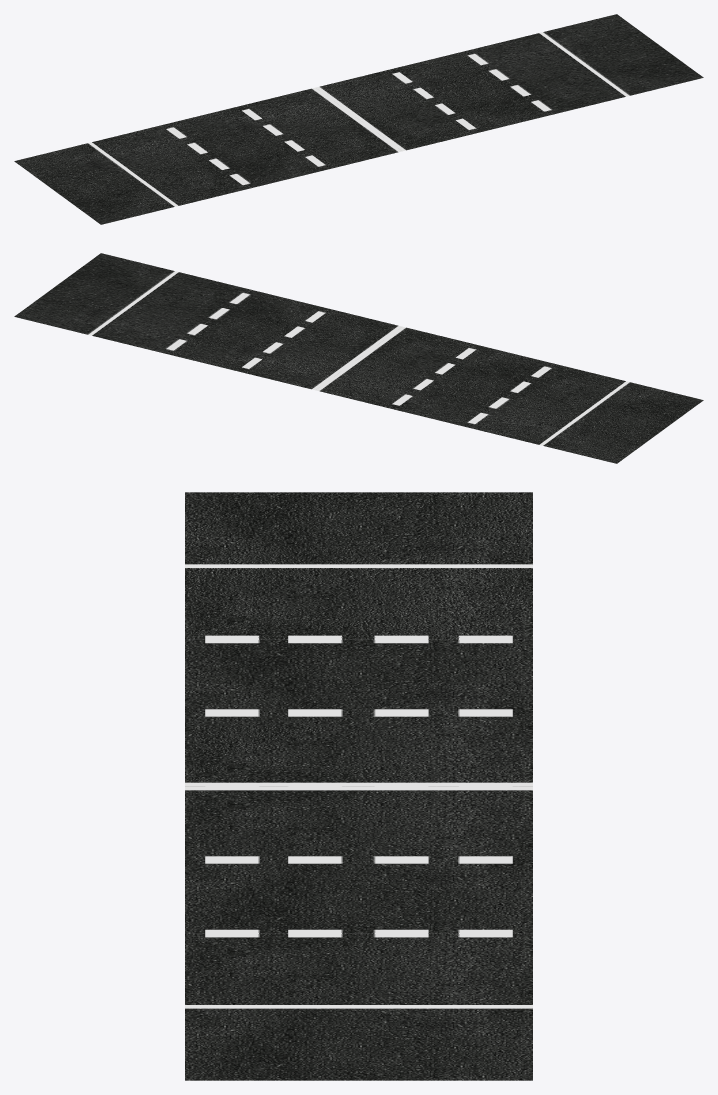
3 renders of one model, top to bottom at view 1: azimuth 30°, elevation 25°; view 2: azimuth 150°, elevation 25°; view 3: azimuth 270°, elevation 25°, orthographic. The views are drawn at different scales.
Visible parts, largest first — view 1: Rectangle02; view 2: Rectangle02; view 3: Rectangle02.
Part boxes in pixels (x1,y1,x2,y2): Rectangle02: [14, 14, 703, 224]; Rectangle02: [14, 253, 703, 463]; Rectangle02: [185, 492, 532, 1080].
Bounding box in the file's own units: 320 × 80 × 1.21e-05.
